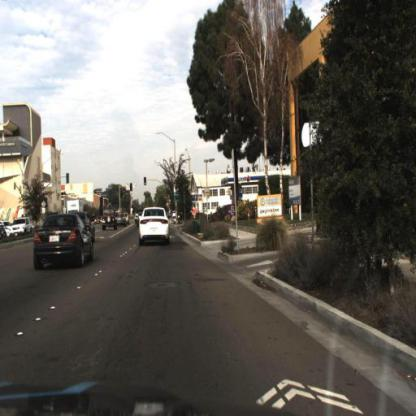car: (32, 208, 96, 274), (139, 205, 173, 245), (102, 207, 120, 232), (113, 207, 129, 234)
